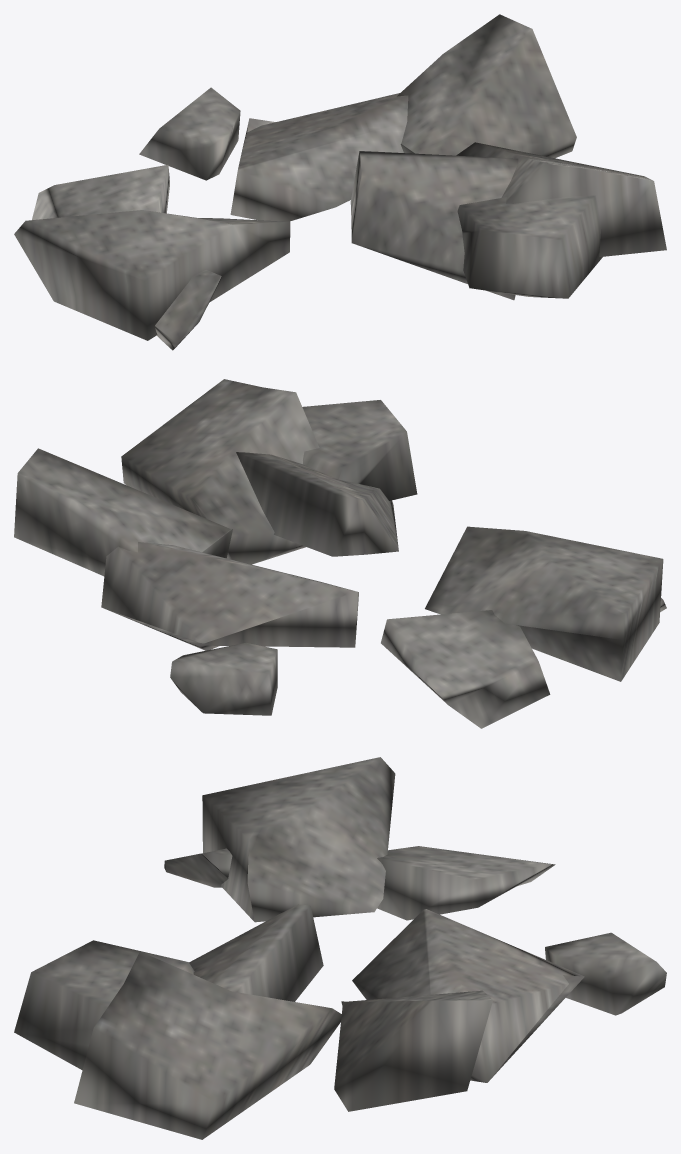
Rendered from rock_scree_01.glb.
3 renders of one model, top to bottom at view 1: azimuth 30°, elevation 25°; view 2: azimuth 150°, elevation 25°; view 3: azimuth 270°, elevation 25°, orthographic. The views are drawn at different scales.
Visible parts, largest first — view 1: rock_scree_01; view 2: rock_scree_01; view 3: rock_scree_01.
Part boxes in pixels (<box>): rock_scree_01: <box>14,14,666,350</box>; rock_scree_01: <box>14,379,666,728</box>; rock_scree_01: <box>14,757,666,1139</box>.
Bounding box in the file's own units: 0.8677 × 0.1807 × 0.7722.
1 material, 1 textured.
